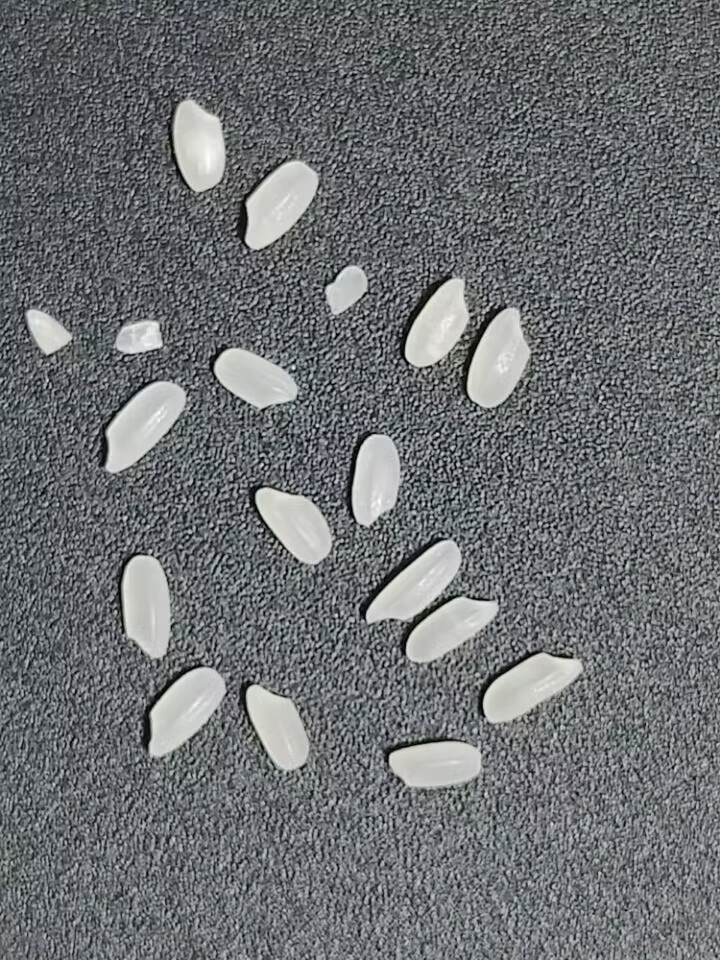broken: (17, 304, 73, 358), (323, 261, 374, 317), (113, 316, 172, 356)
rice: (361, 533, 465, 635), (97, 375, 187, 480), (480, 648, 589, 730), (234, 155, 322, 256), (141, 664, 222, 764), (237, 680, 317, 780), (399, 594, 502, 670), (398, 274, 471, 373), (466, 305, 535, 408), (247, 487, 336, 566), (115, 554, 179, 660), (169, 94, 234, 195), (210, 345, 300, 414), (347, 430, 410, 527), (388, 742, 482, 789)
